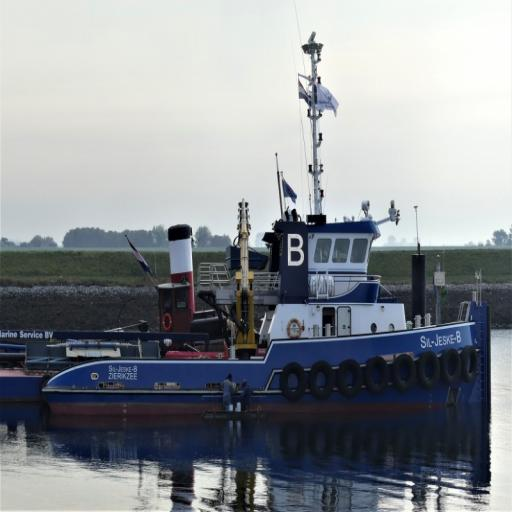tugboat: (38, 30, 495, 430)
